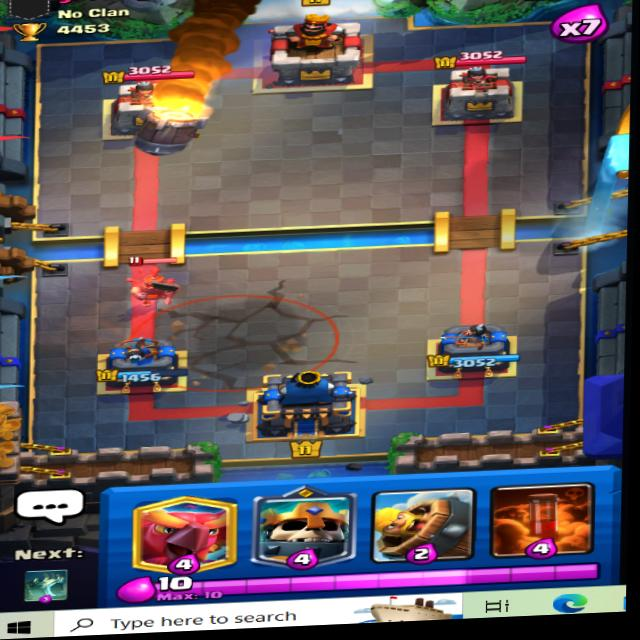earthquake: (139, 288, 334, 395)
rocket: (127, 89, 220, 161)
royal-recruits: (121, 254, 181, 314)
